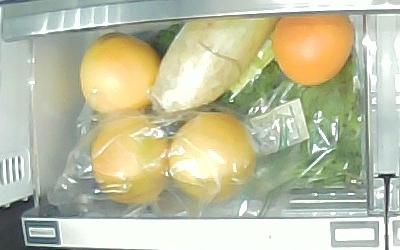grapefruit: (80, 33, 162, 112), (272, 15, 354, 85)
grapefruit_vinyl: (169, 112, 256, 203), (92, 116, 171, 205)
